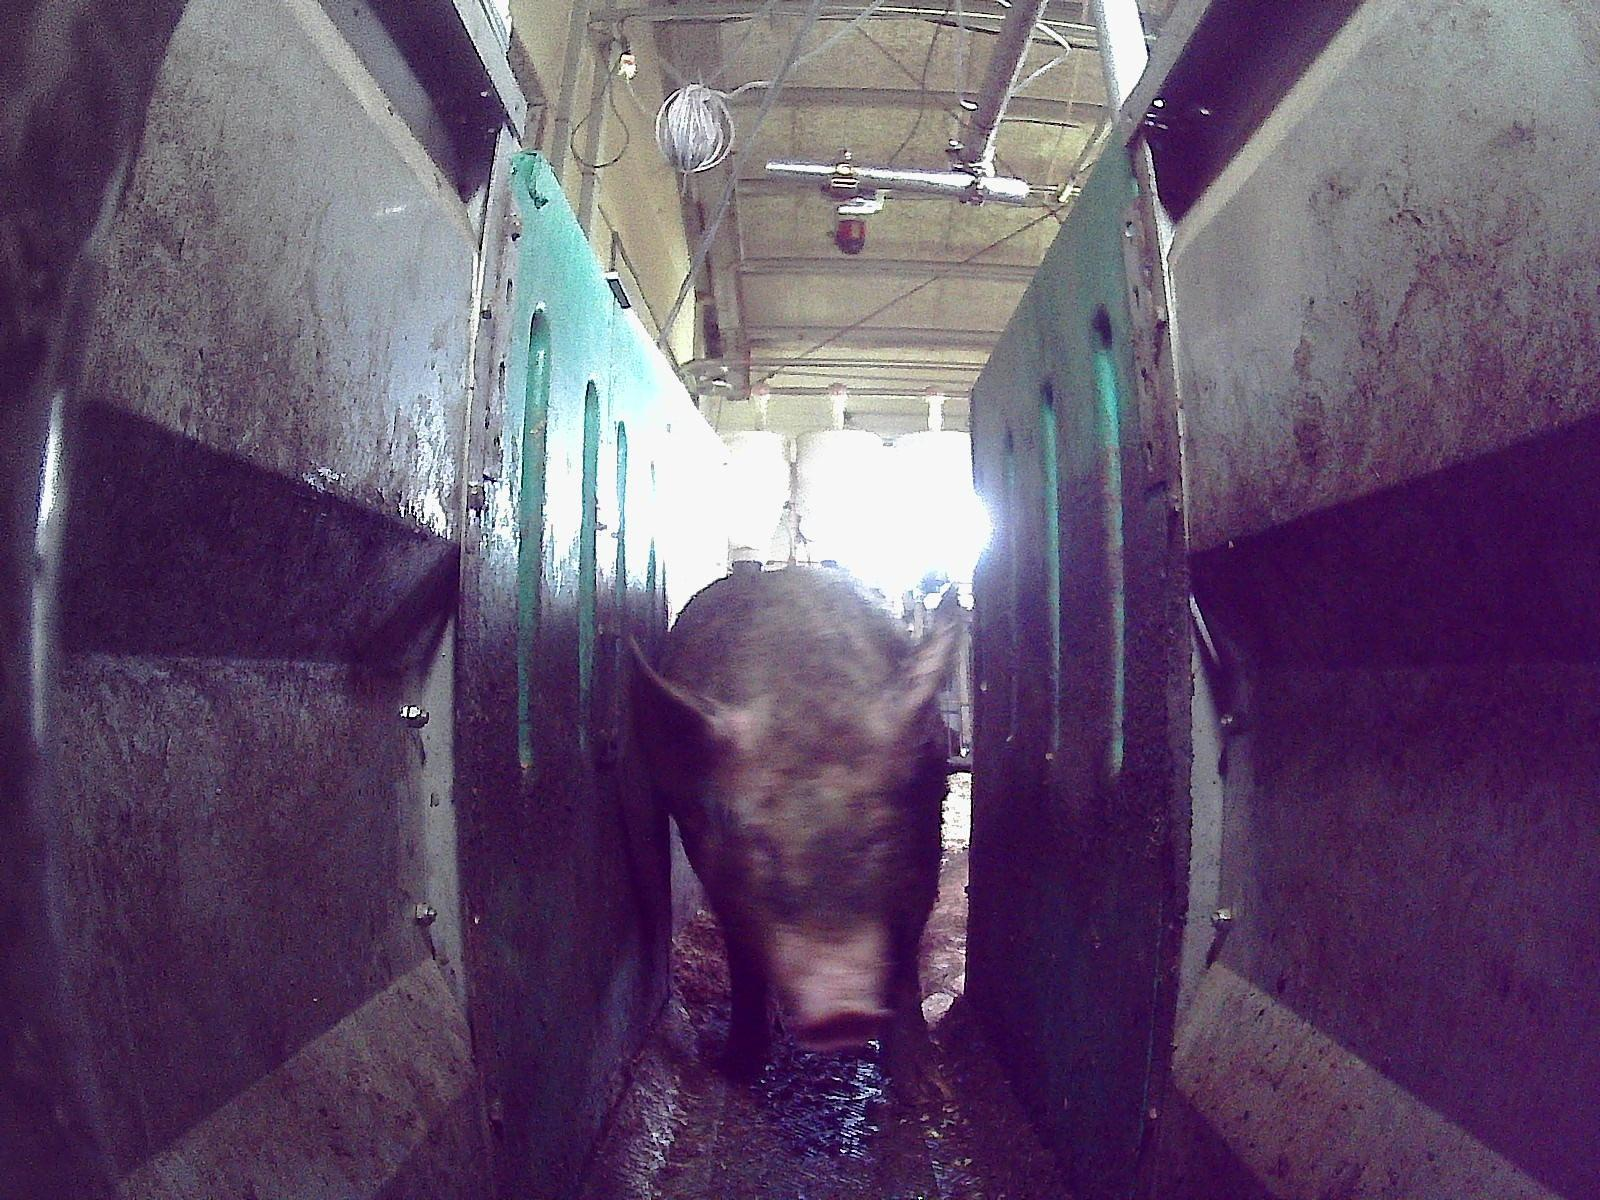Face: (691, 711, 923, 1045)
